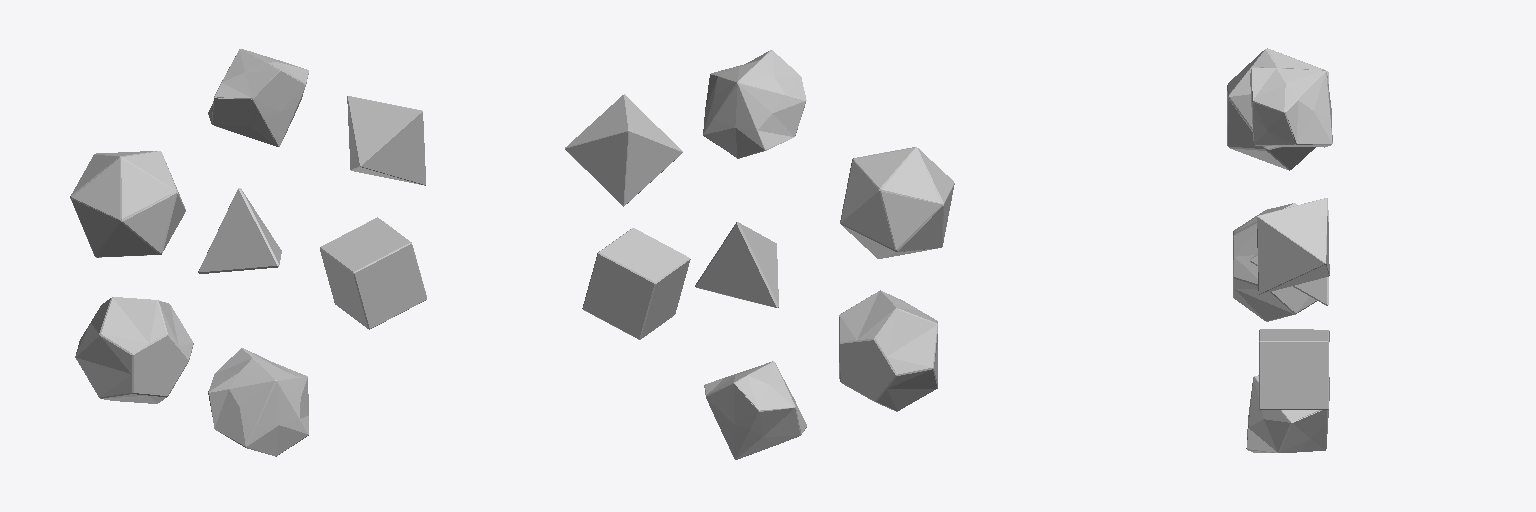
Rendered from dice.obj.
The picture shows the model from 3 angles: view 1: azimuth 30°, elevation 25°; view 2: azimuth 150°, elevation 25°; view 3: azimuth 270°, elevation 25°; orthographic projection.
Parts seen in each view (by area): view 1: D12_Object.006, D20_Object.002, D9_Object.007, D6_Object.008, D10_Object.003, D7_Object.004, D4_Object.005; view 2: D20_Object.002, D12_Object.006, D10_Object.003, D6_Object.008, D7_Object.004, D9_Object.007, D4_Object.005; view 3: D10_Object.003, D6_Object.008, D7_Object.004, D20_Object.002, D9_Object.007, D12_Object.006, D4_Object.005.
Part boxes in pixels (x1,y1,x2,y2): D12_Object.006: (75, 297, 193, 403); D20_Object.002: (70, 151, 185, 257); D9_Object.007: (208, 348, 308, 456); D6_Object.008: (320, 217, 426, 329); D10_Object.003: (208, 49, 308, 146); D7_Object.004: (347, 96, 425, 185); D4_Object.005: (198, 188, 281, 273); D20_Object.002: (840, 147, 954, 258); D12_Object.006: (839, 290, 937, 411); D10_Object.003: (703, 50, 806, 158); D6_Object.008: (582, 228, 690, 339); D7_Object.004: (565, 94, 682, 206); D9_Object.007: (704, 361, 806, 459); D4_Object.005: (695, 222, 778, 307); D10_Object.003: (1250, 67, 1332, 147); D6_Object.008: (1259, 329, 1329, 409); D7_Object.004: (1257, 198, 1329, 294); D20_Object.002: (1227, 48, 1328, 170); D9_Object.007: (1246, 375, 1329, 452); D12_Object.006: (1233, 203, 1316, 321); D4_Object.005: (1250, 210, 1328, 305).
Bounding box in the file's own units: 20.03 × 20.49 × 5.06.